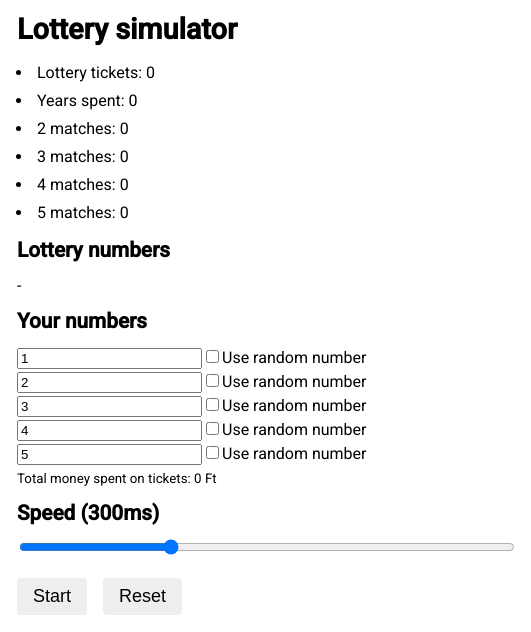
Test: renders pause and hides start btn after sim starts
Click the button "Start".
click(52, 596)  # box left=17, top=578, right=87, bottom=615
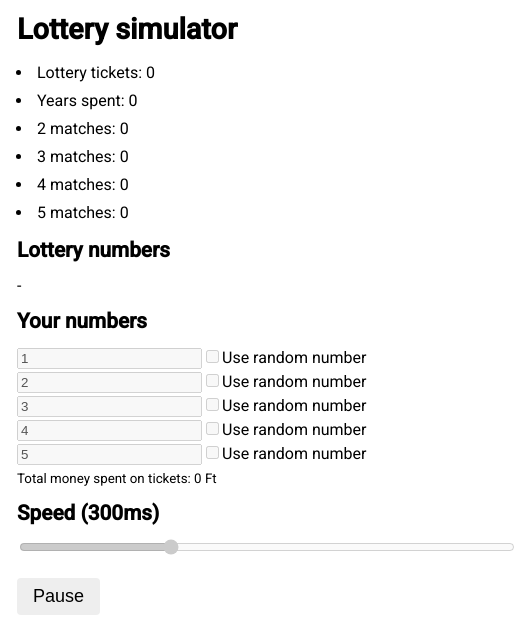
Now the button "Pause" is shown, box left=17, top=578, right=100, bottom=615
